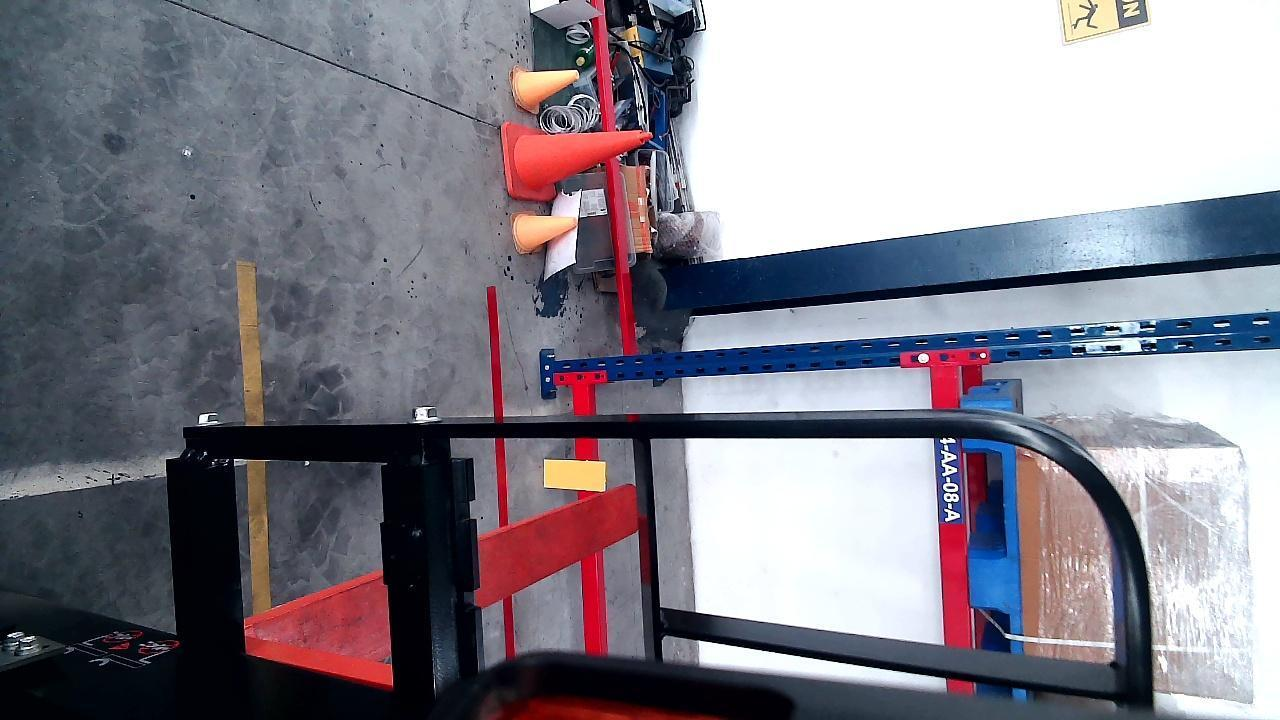h_rack: (569, 406, 608, 655), (934, 409, 970, 653)
orange_strip: (544, 457, 605, 491)
small_pallet: (965, 431, 1024, 654)
yellow_line: (237, 253, 265, 426)
